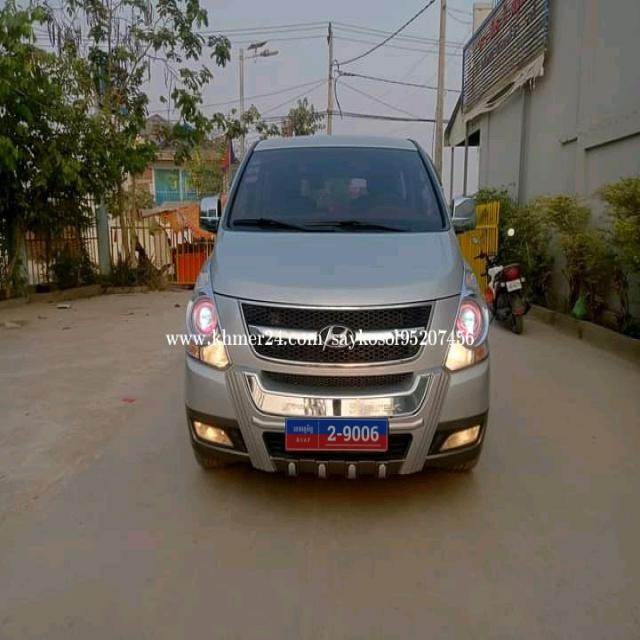Plate Number: (286, 418, 388, 452)
